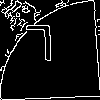L: (24, 24, 55, 71)
